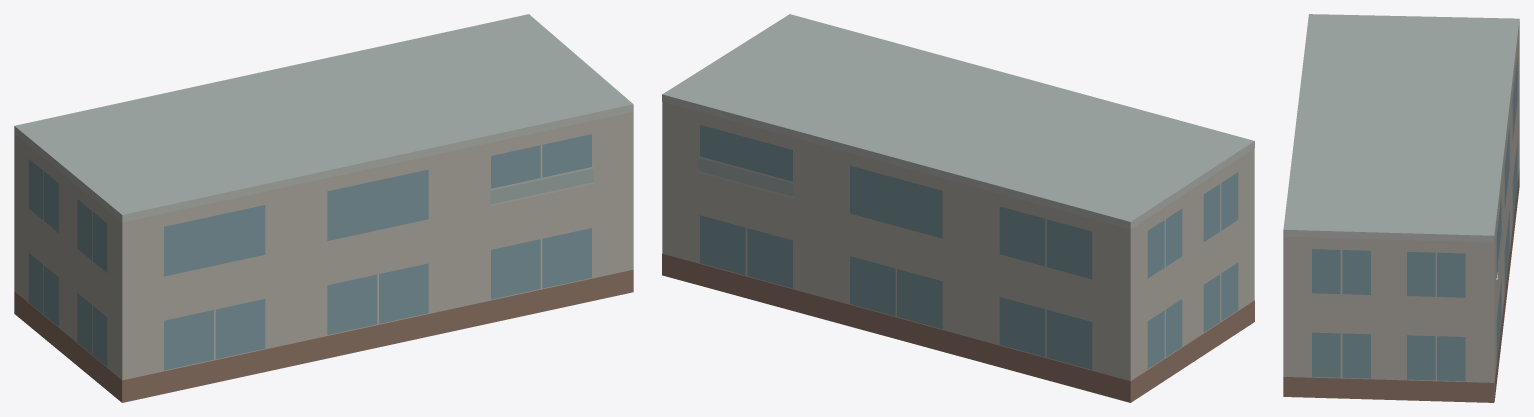
File: survey-upis-32818415.glb
The picture shows the model from 3 angles, left to right: view 1: azimuth 30°, elevation 25°; view 2: azimuth 150°, elevation 25°; view 3: azimuth 270°, elevation 25°; orthographic projection. The views are drawn at different scales.
Parts seen in each view (by area): view 1: survey-upis-32818415.tmp; view 2: survey-upis-32818415.tmp; view 3: survey-upis-32818415.tmp.
Boxes of the visible parts, x1,y1,x2,y2 form: survey-upis-32818415.tmp: [14, 14, 633, 402]; survey-upis-32818415.tmp: [662, 14, 1254, 402]; survey-upis-32818415.tmp: [1283, 14, 1519, 402].
Size of the model in its own units: 17.38 by 6.1 by 7.83.
